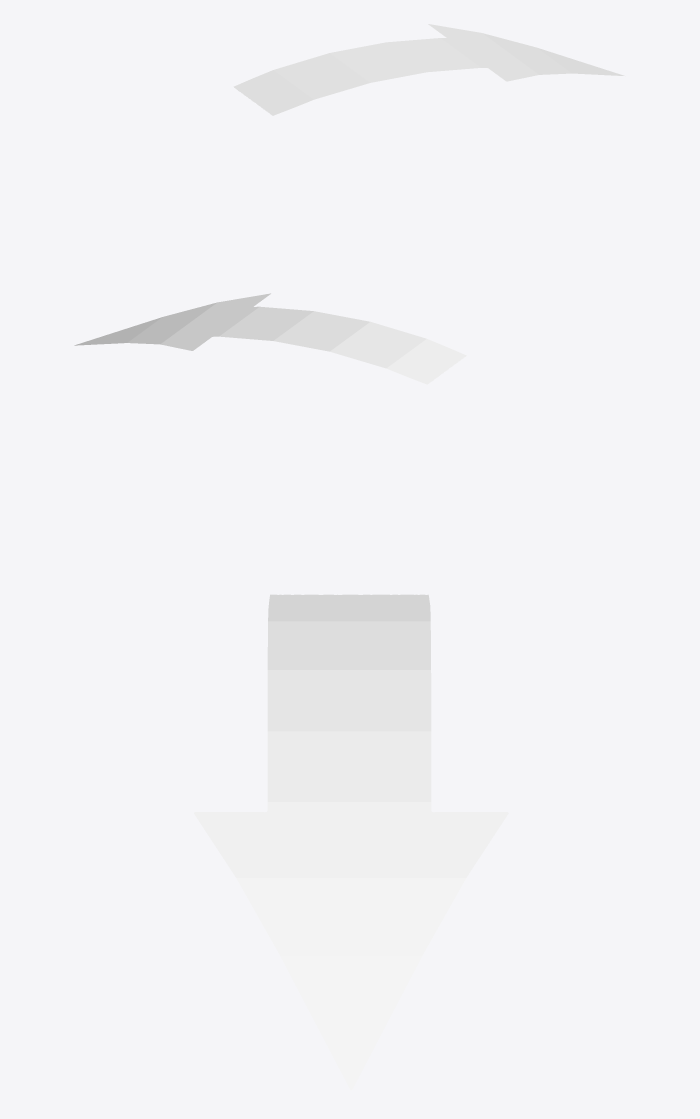
The model's file is Arrow.fbx.
3 renders of one model, top to bottom at view 1: azimuth 30°, elevation 25°; view 2: azimuth 150°, elevation 25°; view 3: azimuth 270°, elevation 25°, orthographic. The views are drawn at different scales.
Visible parts, largest first — view 1: Arrow; view 2: Arrow; view 3: Arrow.
Boxes of the visible parts, x1=… form: Arrow: x1=233, y1=24, x2=624, y2=115; Arrow: x1=74, y1=293, x2=466, y2=384; Arrow: x1=194, y1=594, x2=508, y2=1090.
Size of the model in its own units: 426 by 56.92 by 137.
